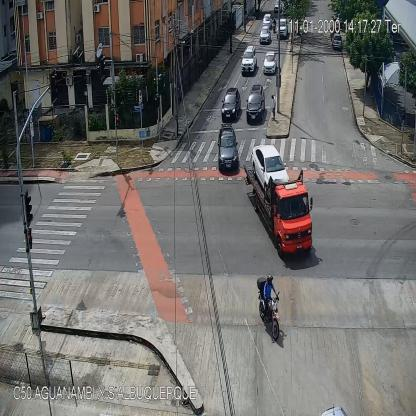car: (218, 124, 238, 172), (247, 84, 266, 122), (222, 87, 240, 123), (240, 46, 257, 76), (264, 51, 275, 75), (276, 19, 288, 36), (259, 26, 270, 42), (333, 34, 341, 50), (263, 14, 270, 25)
motorbike: (257, 276, 282, 340), (273, 15, 278, 34)
person: (271, 94, 276, 121)
truck: (244, 145, 312, 257)
